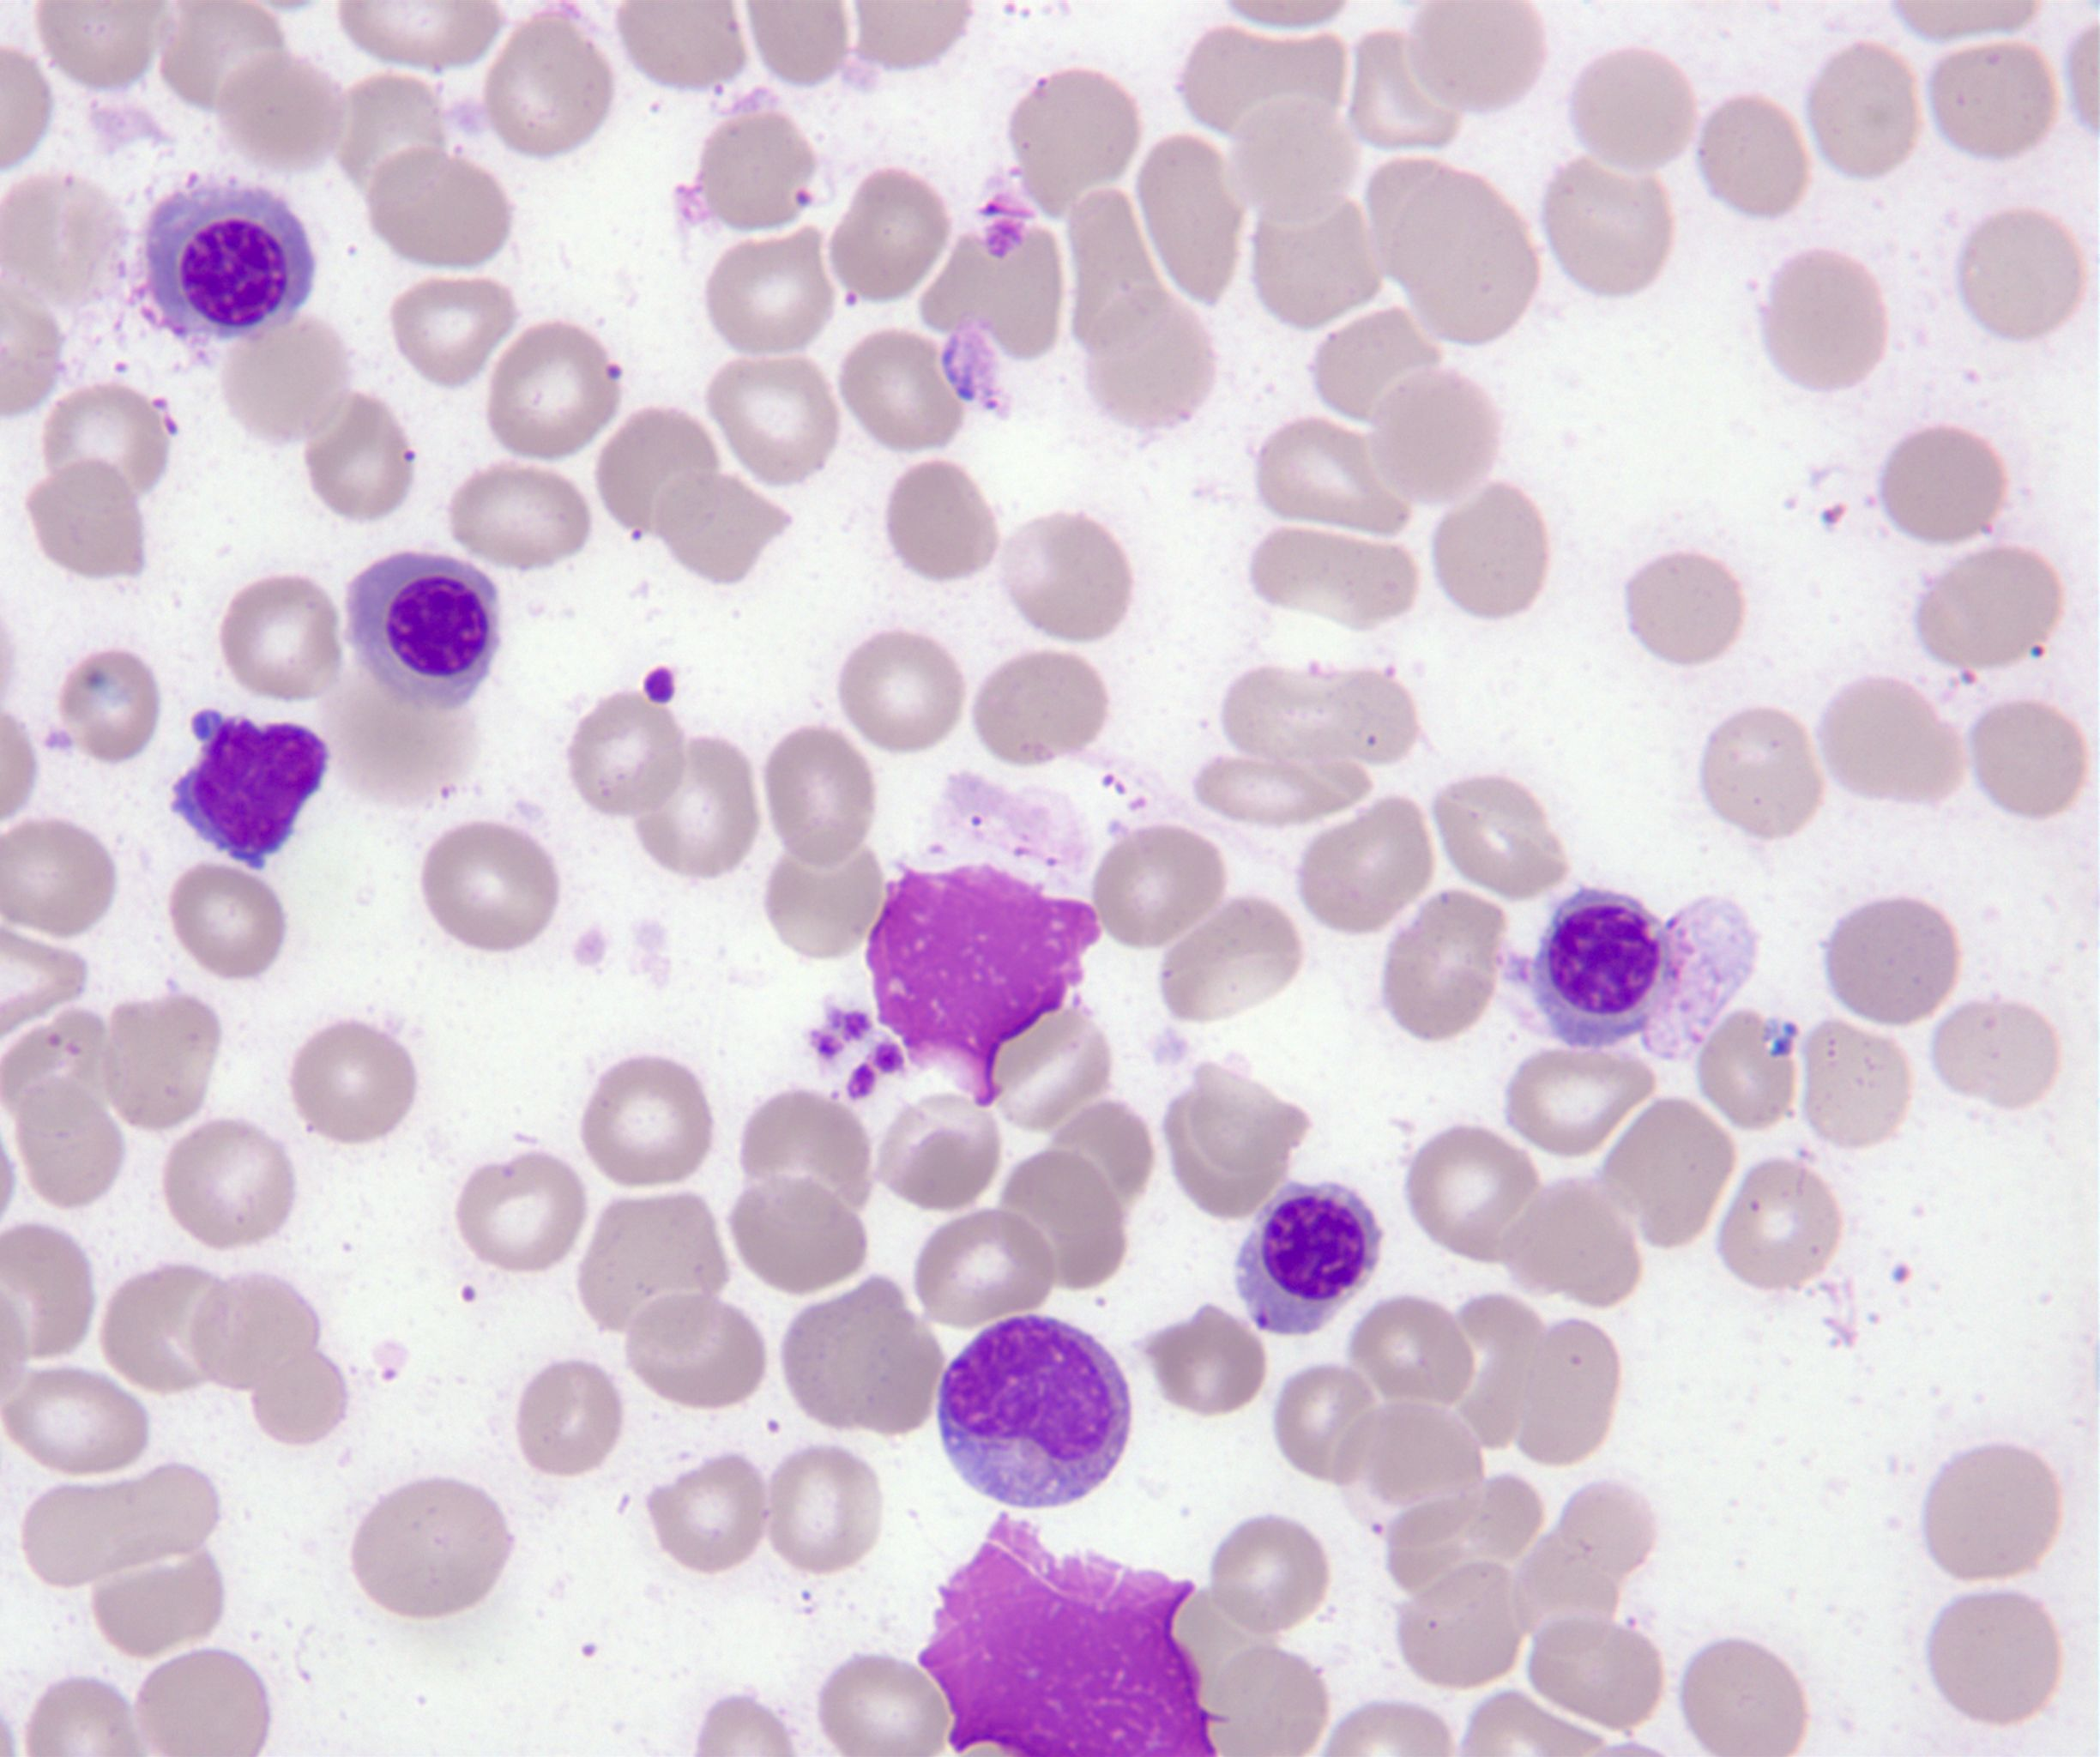24: (147, 185, 314, 342), (351, 553, 497, 712), (1233, 1183, 1380, 1338), (1537, 890, 1667, 1050)
32: (169, 708, 324, 867)
4: (937, 1316, 1130, 1506)
x: (921, 1518, 1210, 1757), (865, 864, 1099, 1103)
